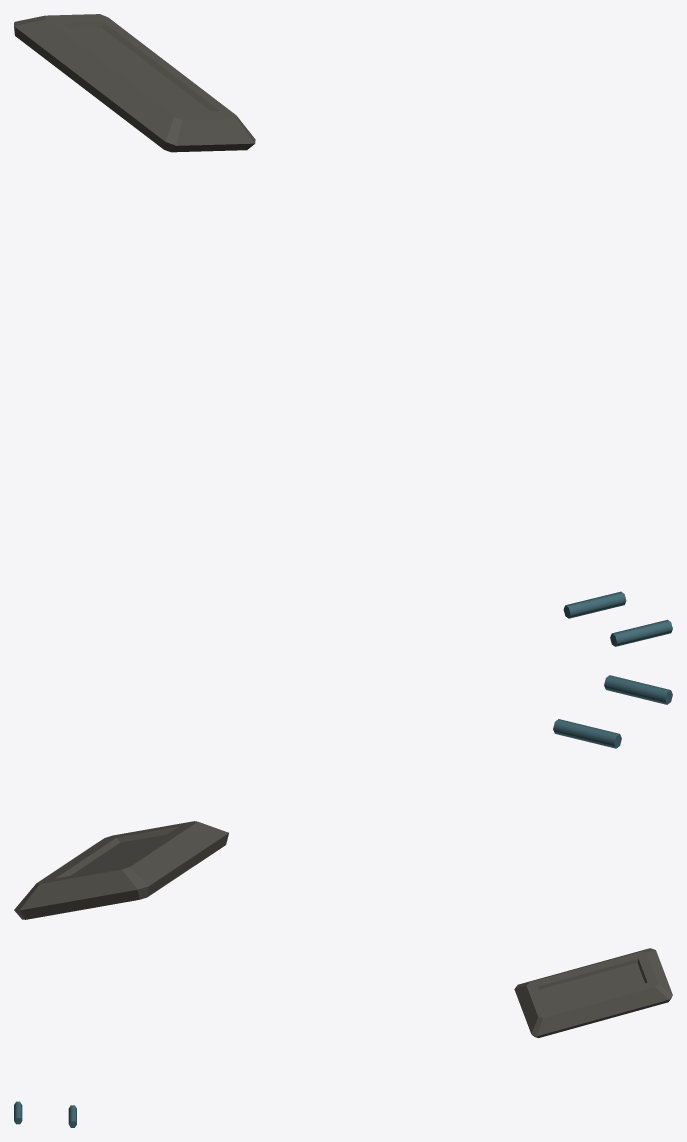
3 views of the same model, one above another, from view 1: azimuth 30°, elevation 25°; view 2: azimuth 150°, elevation 25°; view 3: azimuth 270°, elevation 25° (orthographic). The views are drawn at different scales.
Visible parts, largest first — view 1: Object147_wall_0, Cylinder1210_metal_0, Cylinder1212_metal_0; view 2: Object147_wall_0, Cylinder1212_metal_0, Cylinder1210_metal_0; view 3: Object147_wall_0.
Part boxes in pixels (bbox=[...]): Object147_wall_0: bbox=[14, 14, 255, 152]; Cylinder1210_metal_0: bbox=[610, 619, 672, 646]; Cylinder1212_metal_0: bbox=[563, 591, 626, 618]; Object147_wall_0: bbox=[14, 821, 228, 919]; Cylinder1212_metal_0: bbox=[553, 719, 621, 748]; Cylinder1210_metal_0: bbox=[604, 675, 672, 704]; Object147_wall_0: bbox=[514, 948, 672, 1038].
Bounding box in the file's own units: 144 × 240 × 958.
